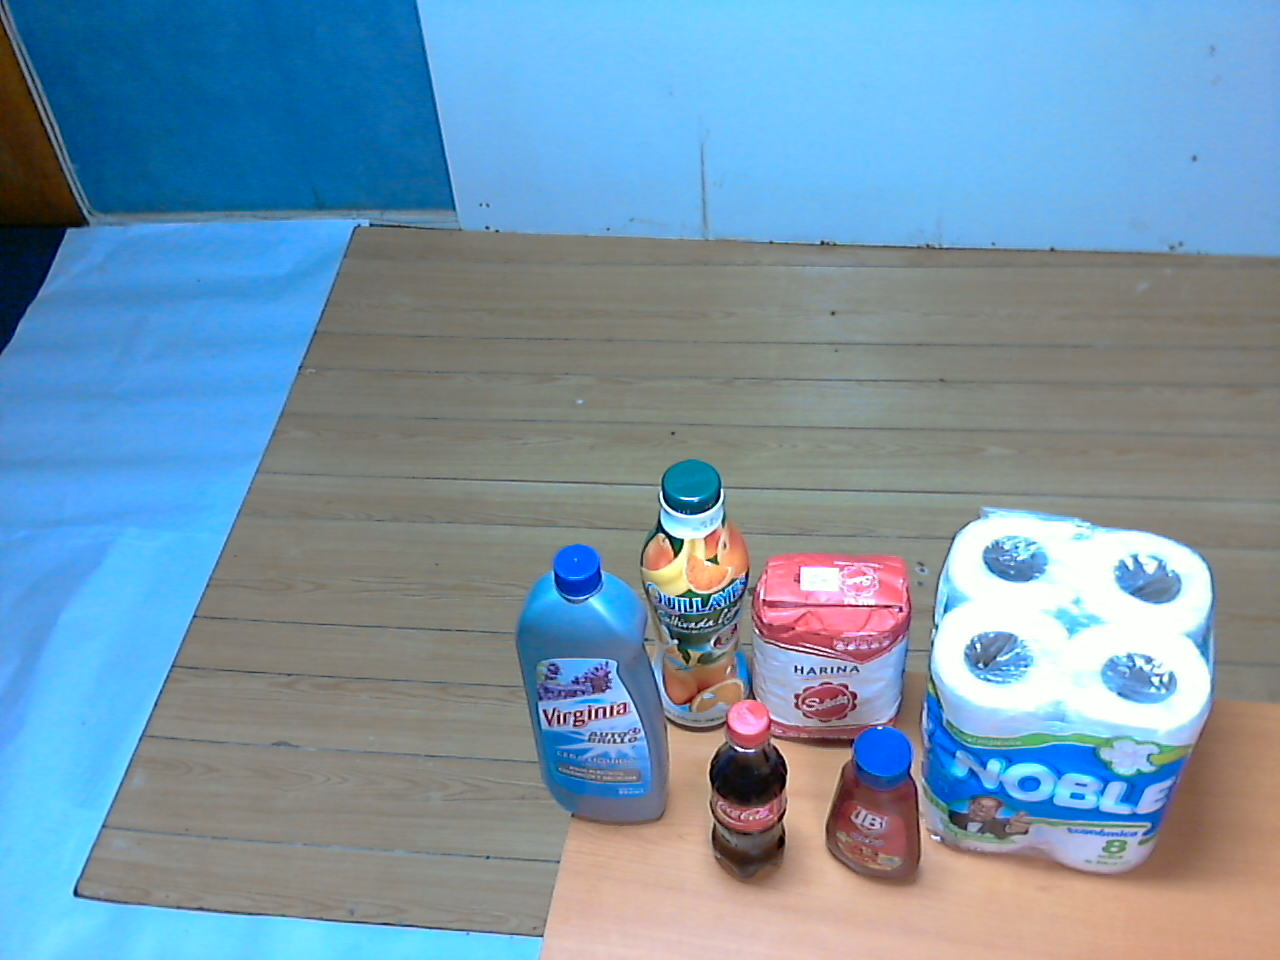cera: (507, 536, 692, 842)
coca: (703, 694, 796, 895)
confort: (907, 504, 1220, 891)
harina: (738, 541, 919, 757)
ketchup: (814, 722, 930, 904)
yogurt: (635, 453, 764, 745)
